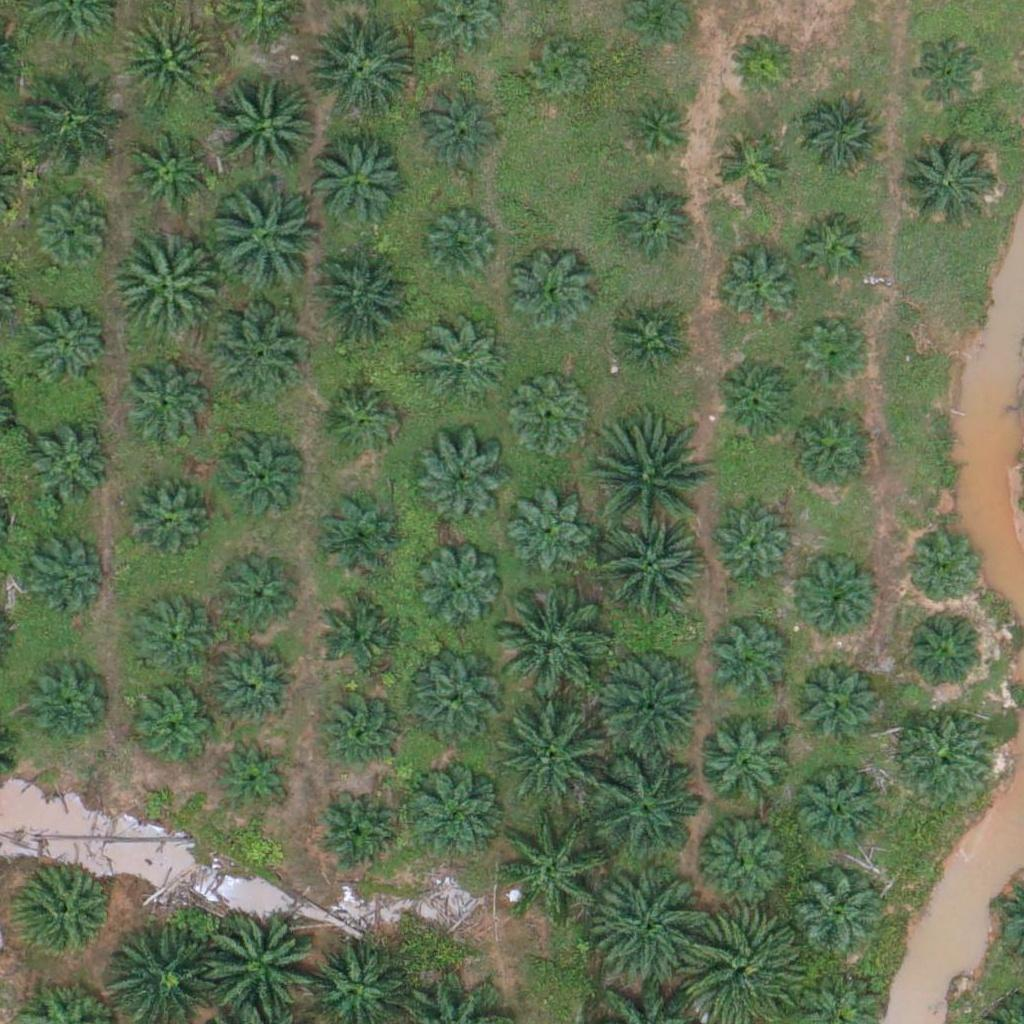Kelapa_Sawit: (587, 647, 700, 761), (594, 424, 707, 537), (591, 745, 704, 858), (299, 249, 412, 362), (208, 186, 321, 299), (19, 58, 132, 171), (598, 872, 710, 986), (214, 71, 326, 185), (592, 517, 704, 630), (499, 811, 611, 924), (499, 702, 611, 815), (495, 590, 607, 703), (108, 230, 220, 343), (301, 14, 413, 127), (897, 134, 997, 235), (895, 703, 995, 804), (787, 764, 887, 865), (404, 657, 504, 758), (308, 136, 408, 237), (205, 303, 305, 404), (117, 11, 217, 112), (697, 810, 797, 910), (701, 714, 801, 814), (403, 763, 503, 863), (15, 865, 115, 965), (714, 240, 802, 329), (906, 28, 994, 117), (612, 184, 700, 272), (600, 300, 688, 388), (784, 407, 872, 495), (707, 617, 795, 705), (416, 443, 504, 531), (416, 544, 504, 632), (30, 189, 118, 277), (19, 296, 107, 384), (23, 424, 111, 512), (16, 526, 104, 614), (118, 474, 206, 562), (216, 429, 304, 517), (315, 792, 403, 880), (317, 375, 405, 463), (506, 376, 594, 464), (124, 132, 212, 220), (415, 89, 503, 177), (800, 93, 888, 181), (713, 355, 800, 443), (706, 503, 793, 591), (795, 560, 882, 648), (902, 606, 989, 694), (796, 876, 883, 964), (791, 655, 878, 743), (23, 661, 110, 749), (133, 678, 220, 766), (129, 593, 216, 681), (120, 357, 207, 445), (214, 554, 301, 642), (215, 638, 302, 726), (313, 682, 400, 770), (321, 585, 408, 673), (313, 488, 400, 576), (508, 247, 595, 335), (505, 489, 592, 577), (419, 320, 506, 408), (423, 210, 498, 286), (796, 320, 871, 396), (216, 735, 291, 811), (905, 533, 980, 609), (619, 93, 694, 169), (711, 131, 786, 206), (525, 36, 600, 111), (799, 215, 874, 290), (726, 27, 801, 102)
